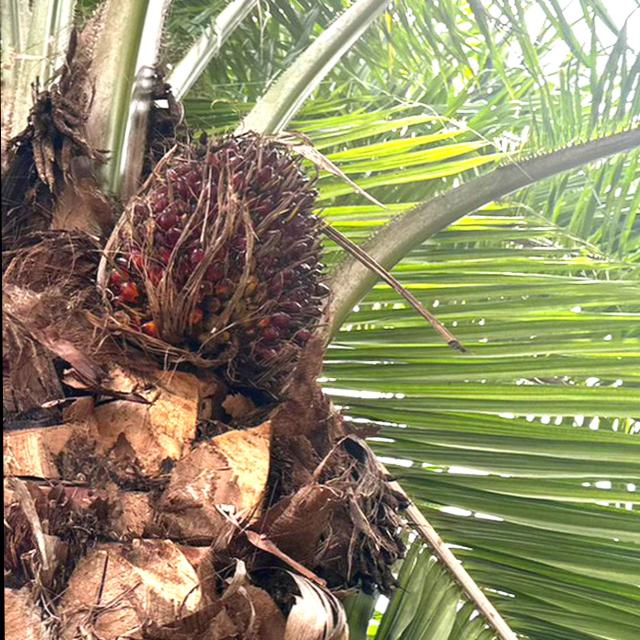ripe: (86, 111, 338, 376)
